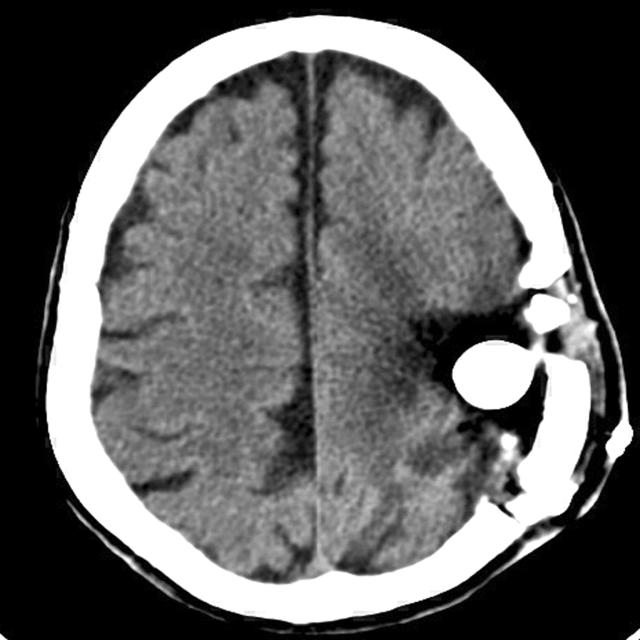Tumor: (448, 337, 541, 414)
